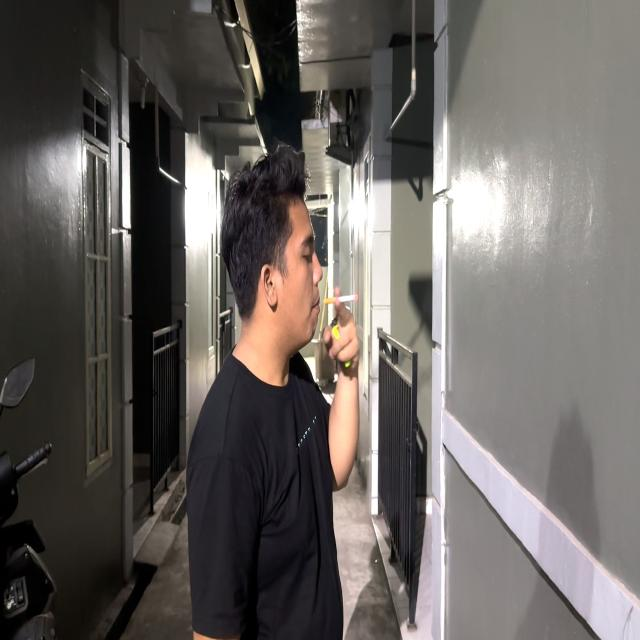cigarette: (322, 287, 365, 307)
smoking: (212, 136, 368, 503)
